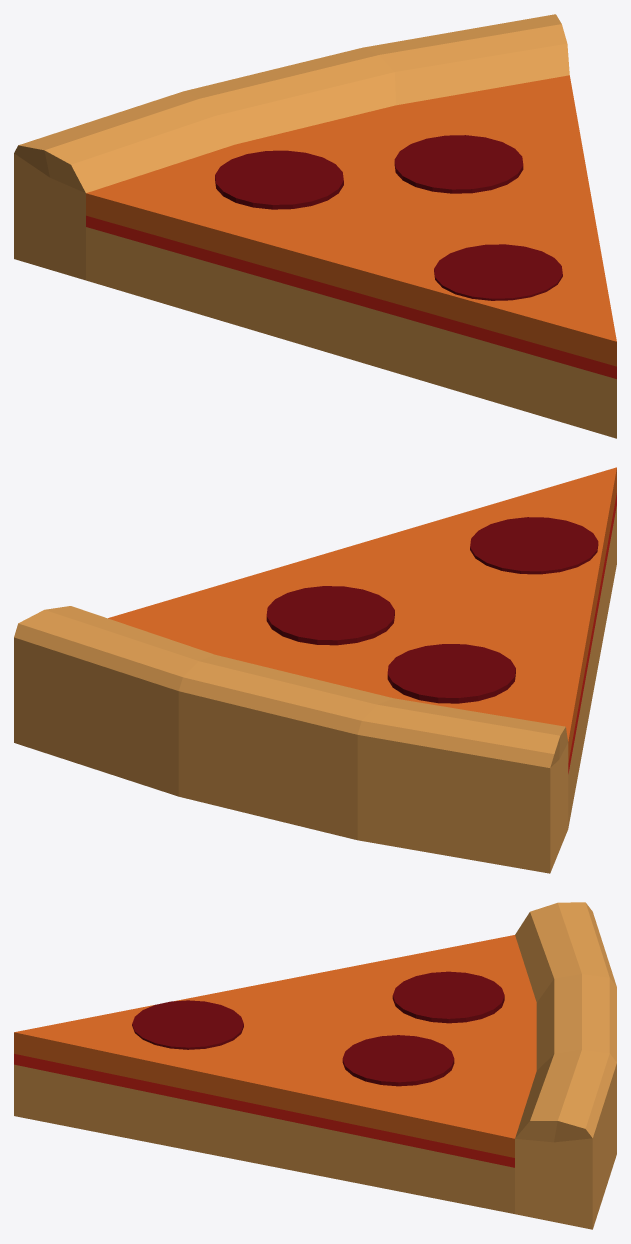
File: pizza.fbx
The picture shows the model from 3 angles, top to bottom: view 1: azimuth 30°, elevation 25°; view 2: azimuth 150°, elevation 25°; view 3: azimuth 270°, elevation 25°; orthographic projection. The views are drawn at different scales.
Parts seen in each view (by area): view 1: Pizza; view 2: Pizza; view 3: Pizza.
Part boxes in pixels (<box>): Pizza: <box>14,14,616,438</box>; Pizza: <box>14,467,616,873</box>; Pizza: <box>14,902,616,1229</box>.
Size of the model in its own units: 38.06 by 42.78 by 8.19.
